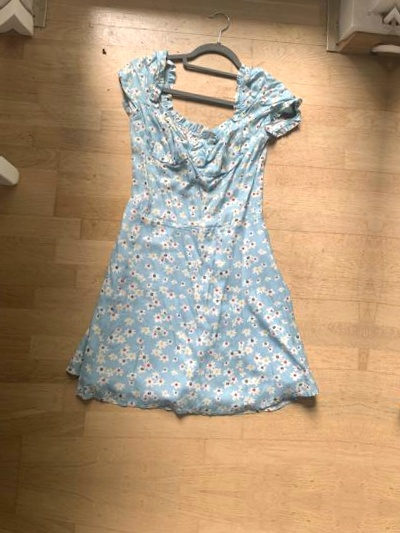Dress: (4, 7, 384, 455), (363, 40, 400, 488), (0, 523, 337, 533)
